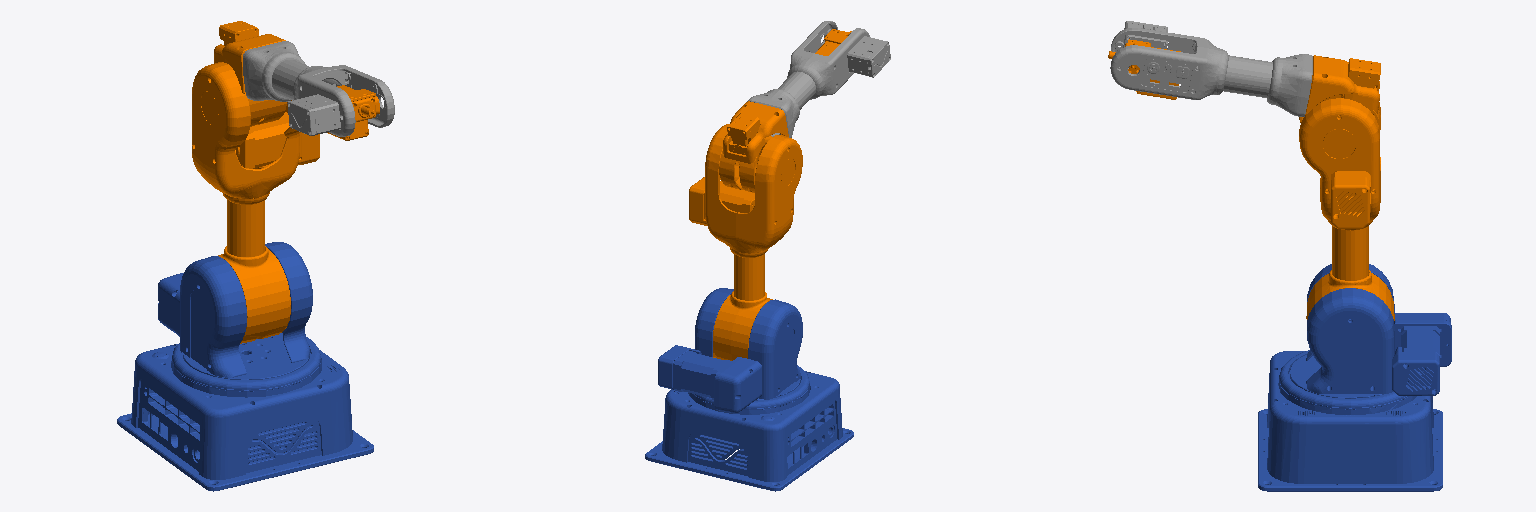
URDF robot description (ned3pro):
<?xml version="1.0" ?>
<robot name="ned3pro">
	<link name="1-ned3_pro_base_assembly_parts">
		<visual>
			<origin xyz="-3.8880681991579346679e-05 0.00017352830767631416409 2.0172458887138949857e-05" rpy="0 -0 0" />
			<geometry>
				<mesh filename="package://niryo_robot_description/urdf/ned3/1-ned3_pro_base_assembly_parts.stl"/>
			</geometry>
			<material name="1-ned3_pro_base_assembly_parts_material">
				<color rgba="0.2313725490196078538 0.38039215686274507888 0.7058823529411765163 1.0"/>
			</material>
		</visual>
		<collision>
			<origin xyz="-3.8880681991579346679e-05 0.00017352830767631416409 2.0172458887138949857e-05" rpy="0 -0 0" />
			<geometry>
				<mesh filename="package://niryo_robot_description/urdf/ned3/1-ned3_pro_base_assembly_parts.stl"/>
			</geometry>
		</collision>
		<inertial>
			<origin xyz="0 0 0" rpy="0 0 0"/>
			<mass value="0" />
			<inertia ixx="0" ixy="0"  ixz="0" iyy="0" iyz="0" izz="0" />
		</inertial>
	</link>
	<link name="2-ned3_pro_shoulder_assembly">
		<visual>
			<origin xyz="0 1.1102230246251565404e-16 0.0020000000000000572875" rpy="3.141592653589793116 6.8399607121664438611e-17 -6.5468376685149784136e-33" />
			<geometry>
				<mesh filename="package://niryo_robot_description/urdf/ned3/2-ned3_pro_shoulder_assembly.stl"/>
			</geometry>
			<material name="2-ned3_pro_shoulder_assembly_material">
				<color rgba="0.2313725490196078538 0.38039215686274507888 0.7058823529411765163 1.0"/>
			</material>
		</visual>
		<collision>
			<origin xyz="0 1.1102230246251565404e-16 0.0020000000000000572875" rpy="3.141592653589793116 6.8399607121664438611e-17 -6.5468376685149784136e-33" />
			<geometry>
				<mesh filename="package://niryo_robot_description/urdf/ned3/2-ned3_pro_shoulder_assembly.stl"/>
			</geometry>
		</collision>
		<inertial>
			<origin xyz="0 0 0" rpy="0 0 0"/>
			<mass value="0" />
			<inertia ixx="0" ixy="0"  ixz="0" iyy="0" iyz="0" izz="0" />
		</inertial>
	</link>
	<link name="3-ned3_pro_arm_assembly">
		<visual>
			<origin xyz="2.3934576109246874509e-15 0.078499999999999986455 -0.025499999999999994893" rpy="-1.570796326794896558 -3.8857805861880400029e-16 0" />
			<geometry>
				<mesh filename="package://niryo_robot_description/urdf/ned3/3-ned3_pro_arm_assembly.stl"/>
			</geometry>
			<material name="3-ned3_pro_arm_assembly_material">
				<color rgba="0.97254901960784312376 0.52941176470588235947 0.0039215686274509803377 1.0"/>
			</material>
		</visual>
		<collision>
			<origin xyz="2.3934576109246874509e-15 0.078499999999999986455 -0.025499999999999994893" rpy="-1.570796326794896558 -3.8857805861880400029e-16 0" />
			<geometry>
				<mesh filename="package://niryo_robot_description/urdf/ned3/3-ned3_pro_arm_assembly.stl"/>
			</geometry>
		</collision>
		<inertial>
			<origin xyz="0 0 0" rpy="0 0 0"/>
			<mass value="0" />
			<inertia ixx="0" ixy="0"  ixz="0" iyy="0" iyz="0" izz="0" />
		</inertial>
	</link>
	<link name="4-ned3_pro_elbow_assembly">
		<visual>
			<origin xyz="0 0 0" rpy="7.0210188769051189569e-17 1.570796326794896558 0" />
			<geometry>
				<mesh filename="package://niryo_robot_description/urdf/ned3/4-ned3_pro_elbow_assembly.stl"/>
			</geometry>
			<material name="4-ned3_pro_elbow_assembly_material">
				<color rgba="0.97254901960784312376 0.52941176470588235947 0.0039215686274509803377 1.0"/>
			</material>
		</visual>
		<collision>
			<origin xyz="0 0 0" rpy="7.0210188769051189569e-17 1.570796326794896558 0" />
			<geometry>
				<mesh filename="package://niryo_robot_description/urdf/ned3/4-ned3_pro_elbow_assembly.stl"/>
			</geometry>
		</collision>
		<inertial>
			<origin xyz="0 0 0" rpy="0 0 0"/>
			<mass value="0" />
			<inertia ixx="0" ixy="0"  ixz="0" iyy="0" iyz="0" izz="0" />
		</inertial>
	</link>
	<link name="5-ned3_pro_forearm_assembly">
		<visual>
			<origin xyz="0 0 -0.071865210000000012691" rpy="-1.570796326794896558 -1.570796326794896558 0" />
			<geometry>
				<mesh filename="package://niryo_robot_description/urdf/ned3/5-ned3_pro_forearm_assembly.stl"/>
			</geometry>
			<material name="5-ned3_pro_forearm_assembly_material">
				<color rgba="0.64705882352941179736 0.64705882352941179736 0.64705882352941179736 1.0"/>
			</material>
		</visual>
		<collision>
			<origin xyz="0 0 -0.071865210000000012691" rpy="-1.570796326794896558 -1.570796326794896558 0" />
			<geometry>
				<mesh filename="package://niryo_robot_description/urdf/ned3/5-ned3_pro_forearm_assembly.stl"/>
			</geometry>
		</collision>
		<inertial>
			<origin xyz="0 0 0" rpy="0 0 0"/>
			<mass value="0" />
			<inertia ixx="0" ixy="0"  ixz="0" iyy="0" iyz="0" izz="0" />
		</inertial>
	</link>
	<link name="6-ned3_pro_wrist_assembly">
		<visual>
			<origin xyz="-8.3266726846886740532e-17 -5.5511151231257827021e-17 -0.036749999999999997946" rpy="-1.570796326794896558 5.8827770454689508559e-32 2.0620548936452984429e-17" />
			<geometry>
				<mesh filename="package://niryo_robot_description/urdf/ned3/6-ned3_pro_wrist_assembly.stl"/>
			</geometry>
			<material name="6-ned3_pro_wrist_assembly_material">
				<color rgba="0.97254901960784312376 0.52941176470588235947 0.0039215686274509803377 1.0"/>
			</material>
		</visual>
		<collision>
			<origin xyz="-8.3266726846886740532e-17 -5.5511151231257827021e-17 -0.036749999999999997946" rpy="-1.570796326794896558 5.8827770454689508559e-32 2.0620548936452984429e-17" />
			<geometry>
				<mesh filename="package://niryo_robot_description/urdf/ned3/6-ned3_pro_wrist_assembly.stl"/>
			</geometry>
		</collision>
		<inertial>
			<origin xyz="0 0 0" rpy="0 0 0"/>
			<mass value="0" />
			<inertia ixx="0" ixy="0"  ixz="0" iyy="0" iyz="0" izz="0" />
		</inertial>
	</link>
	
	  <!-- Joints -->

	<joint name="joint_1" type="revolute">
		<origin xyz="0.0011111193180081105521 0.00014128312960281174098 0.092020172458887133926" rpy="3.1415926535897917837 4.6911994294055419229e-16 6.1232339957367044061e-17" />
		<parent link="1-ned3_pro_base_assembly_parts" />
		<child link="2-ned3_pro_shoulder_assembly" />
		<axis xyz="0 0 1"/>
		<limit effort="1" velocity="20" lower="0" upper="3.141592653589793116"/>
		<joint_properties friction="0.0"/>
	</joint>
	<joint name="joint_2" type="revolute">
		<origin xyz="0.024999999999999990979 -1.5802246663976227126e-16 -0.069999999999999146238" rpy="-1.570796326794896558 -3.0039357235659917233e-17 -1.5707963267948970021" />
		<parent link="2-ned3_pro_shoulder_assembly" />
		<child link="3-ned3_pro_arm_assembly" />
		<axis xyz="0 0 1"/>
		<limit effort="1" velocity="20" lower="-1.115" upper="1.570796326794896558"/>
		<joint_properties friction="0.0"/>
	</joint>	
	
	<joint name="joint_3" type="revolute">
		<origin xyz="-0.011999999999998102462 0.23029999999999997695 -0.025499999999999994893" rpy="-3.1415926535897926719 -2.1085773778321129237e-15 2.7925268031909271649" />
		<parent link="3-ned3_pro_arm_assembly" />
		<child link="4-ned3_pro_elbow_assembly" />
		<axis xyz="0 0 1"/>
		<limit effort="1" velocity="20" lower="0.08726646259971647" upper="2.7"/>
		<joint_properties friction="0.0"/>
	</joint>

	<joint name="joint_4" type="revolute">
		<origin xyz="0.038999999999999979128 -0.040681670000001168841 -3.6125616387217007741e-16" rpy="-1.5707963267948972241 -1.5707963267948958919 0" />
		<parent link="4-ned3_pro_elbow_assembly" />
		<child link="5-ned3_pro_forearm_assembly" />
		<axis xyz="0 0 1"/>
		<limit effort="1" velocity="20" lower="0" upper="3.141592653589793116"/>
		<joint_properties friction="0.0"/>
	</joint>
			
	<joint name="joint_5" type="revolute">
		<origin xyz="0.022999999999999999611 -7.2164496600635175128e-16 -0.19174021000000007753" rpy="-6.6936160909458235717e-17 1.570796326794896336 0" />
		<parent link="5-ned3_pro_forearm_assembly" />
		<child link="6-ned3_pro_wrist_assembly" />
		<axis xyz="0 0 1"/>
		<limit effort="1" velocity="20" lower="0" upper="3.141592653589793116"/>
		<joint_properties friction="0.0"/>
	</joint>




</robot>

--- What the picture shows (computed from the rendered views, not written in the file) ---
Views: 3 orthographic renders of the robot side by side, from view 1: azimuth 30°, elevation 25°; view 2: azimuth 150°, elevation 25°; view 3: azimuth 270°, elevation 25°.
Model ned3pro with 6 links and 5 joints (5 revolute), rooted at 1-ned3_pro_base_assembly_parts, posed all joints at 0 but 1 set to mid-range because 0 is outside their limits (joint_3 = 1.39).
Visible links, largest first — view 1: 1-ned3_pro_base_assembly_parts, 3-ned3_pro_arm_assembly, 2-ned3_pro_shoulder_assembly, 5-ned3_pro_forearm_assembly, 4-ned3_pro_elbow_assembly, 6-ned3_pro_wrist_assembly; view 2: 1-ned3_pro_base_assembly_parts, 3-ned3_pro_arm_assembly, 2-ned3_pro_shoulder_assembly, 5-ned3_pro_forearm_assembly, 4-ned3_pro_elbow_assembly; view 3: 1-ned3_pro_base_assembly_parts, 2-ned3_pro_shoulder_assembly, 3-ned3_pro_arm_assembly, 5-ned3_pro_forearm_assembly, 4-ned3_pro_elbow_assembly.
Link boxes in pixels (left/top/right/bottom): 1-ned3_pro_base_assembly_parts: left=117, top=337, right=373, bottom=491; 3-ned3_pro_arm_assembly: left=192, top=62, right=319, bottom=343; 2-ned3_pro_shoulder_assembly: left=158, top=242, right=312, bottom=379; 5-ned3_pro_forearm_assembly: left=243, top=41, right=394, bottom=136; 4-ned3_pro_elbow_assembly: left=214, top=21, right=286, bottom=126; 6-ned3_pro_wrist_assembly: left=327, top=85, right=379, bottom=140; 1-ned3_pro_base_assembly_parts: left=645, top=365, right=853, bottom=491; 3-ned3_pro_arm_assembly: left=689, top=124, right=802, bottom=360; 2-ned3_pro_shoulder_assembly: left=658, top=288, right=802, bottom=412; 5-ned3_pro_forearm_assembly: left=747, top=21, right=890, bottom=137; 4-ned3_pro_elbow_assembly: left=719, top=101, right=788, bottom=192; 1-ned3_pro_base_assembly_parts: left=1258, top=350, right=1442, bottom=491; 2-ned3_pro_shoulder_assembly: left=1290, top=264, right=1451, bottom=398; 3-ned3_pro_arm_assembly: left=1299, top=89, right=1394, bottom=320; 5-ned3_pro_forearm_assembly: left=1110, top=21, right=1312, bottom=116; 4-ned3_pro_elbow_assembly: left=1306, top=55, right=1380, bottom=130.
Size in the robot's own frame: 0.2 by 0.3714 by 0.5001 metres.
Meshes: 6 distinct files referenced, 6 mesh visuals loaded (6 binary STL).